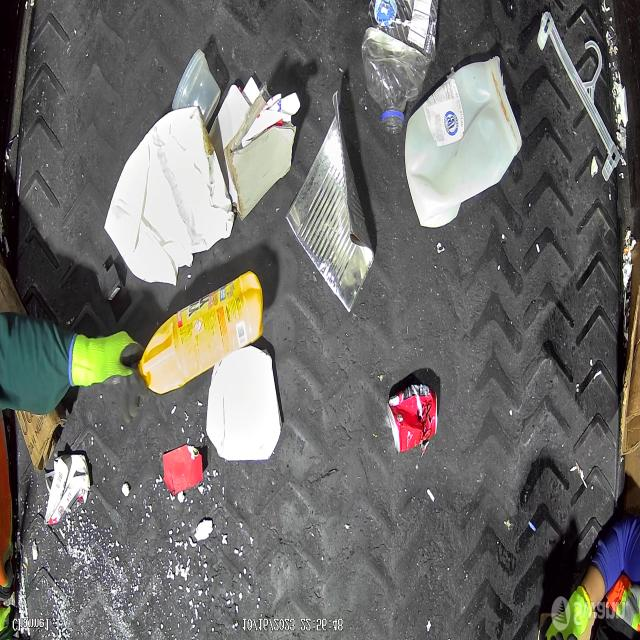can: (285, 86, 374, 314), (387, 384, 438, 455)
milk_jug: (404, 55, 522, 228)
non_white_jug: (136, 269, 266, 394)
plastic_bottle: (362, 0, 438, 134)
